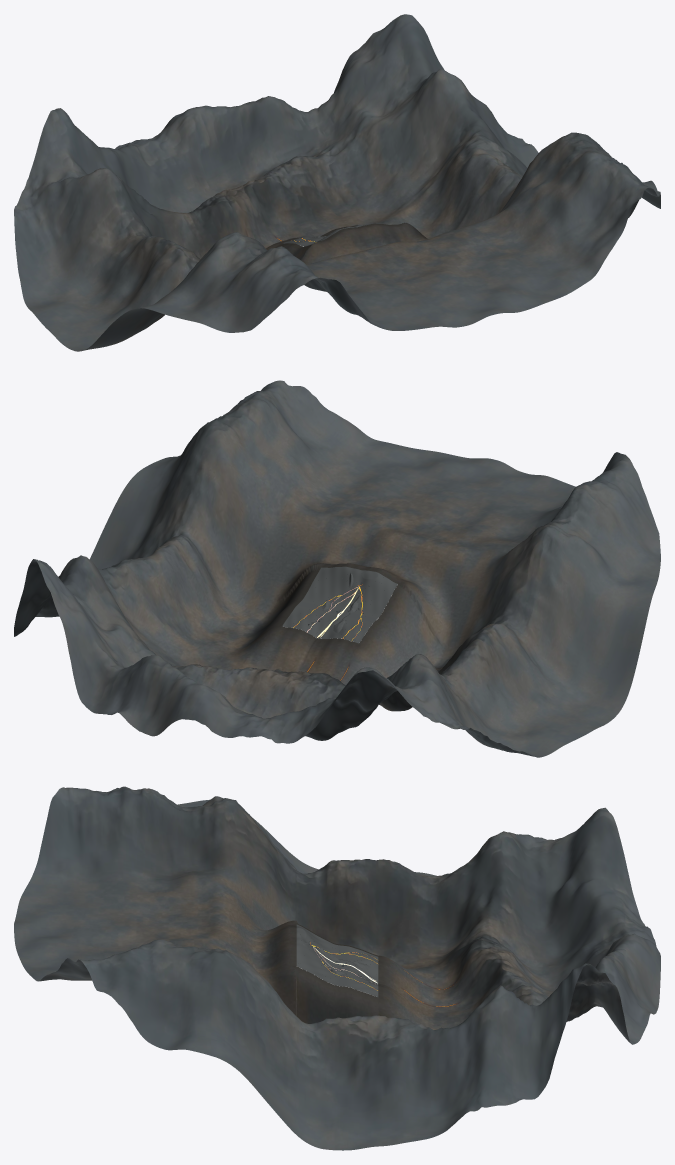
Rendered from ember-distant-valley-r2.glb.
3 views of the same model, one above another, from view 1: azimuth 30°, elevation 25°; view 2: azimuth 150°, elevation 25°; view 3: azimuth 270°, elevation 25° (orthographic). The views are drawn at different scales.
Parts seen in each view (by area): view 1: EMBER_DistantValley; view 2: EMBER_DistantValley, EMBER_Terrain; view 3: EMBER_DistantValley, EMBER_Terrain.
Boxes of the visible parts, x1,y1,x2,y2 form: EMBER_DistantValley: [14, 14, 660, 351]; EMBER_DistantValley: [14, 380, 660, 757]; EMBER_Terrain: [282, 566, 397, 643]; EMBER_DistantValley: [14, 786, 660, 1150]; EMBER_Terrain: [296, 924, 378, 997].
Size of the model in its own units: 2696 by 708 by 2651.
Materials: 8 (1 with a texture image).
